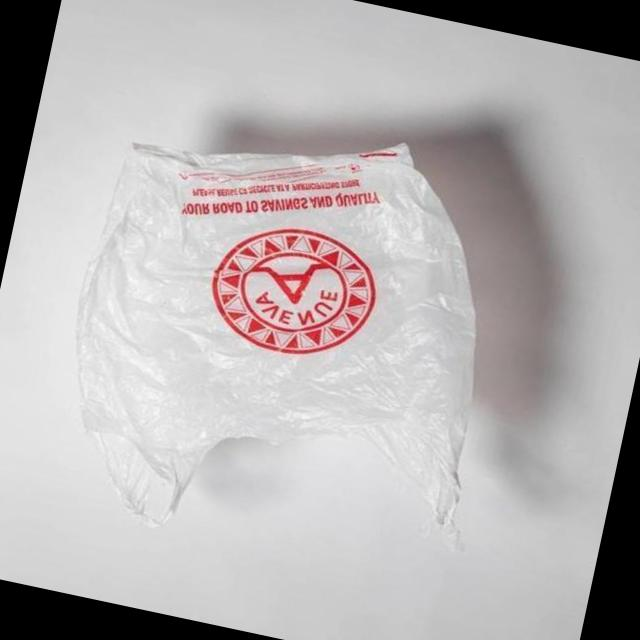KantongPlastik: (34, 82, 542, 593)
